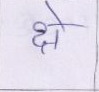e_matra: (45, 1, 65, 23)
